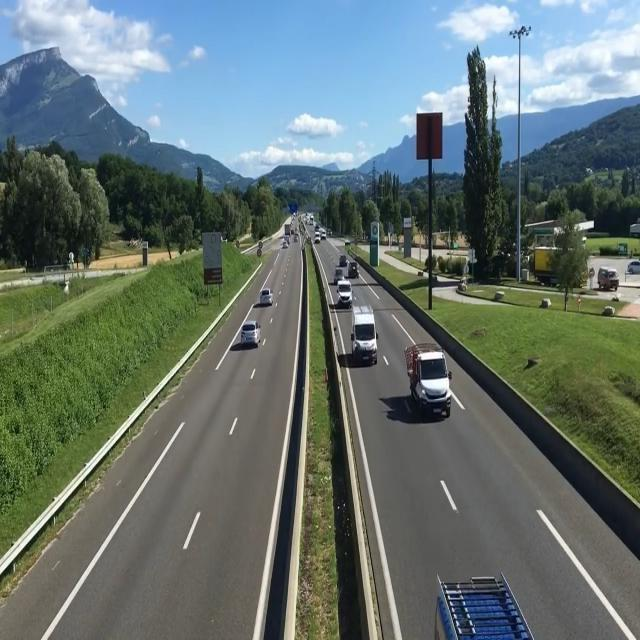Car: (237, 311, 264, 348), (257, 280, 277, 309), (350, 244, 363, 273), (328, 266, 345, 288)
Truck: (418, 578, 543, 640), (405, 327, 452, 447)
Van: (348, 305, 381, 377), (333, 279, 356, 317)
